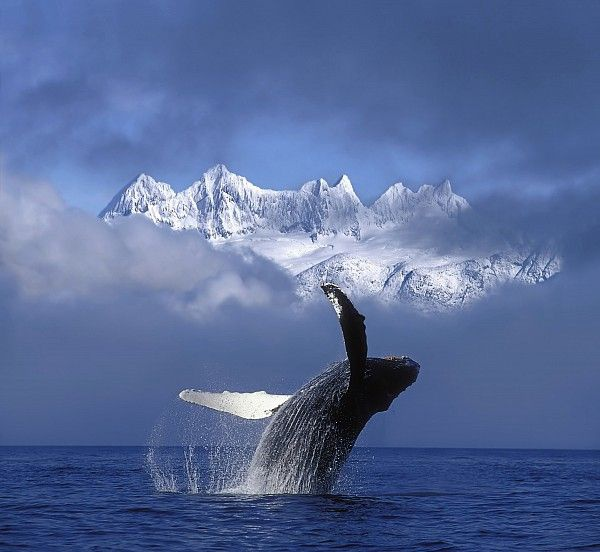humpback: (245, 353, 419, 493)
